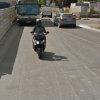Motorcycle: (25, 19, 52, 59)
